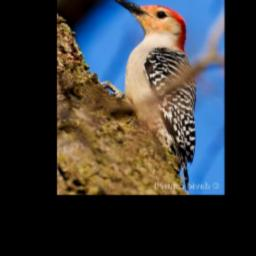Woodpecker: (112, 0, 196, 190)
